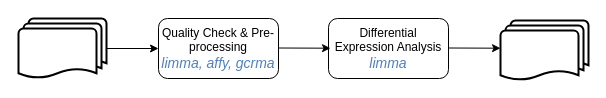
Image size: 606x98. Some labels were removed from this diagram. The centre of each missing label's shape, as x and y in pixels:
"list of DE genes" belongs at point 544,50.
"raw data" belongs at point 62,48.
